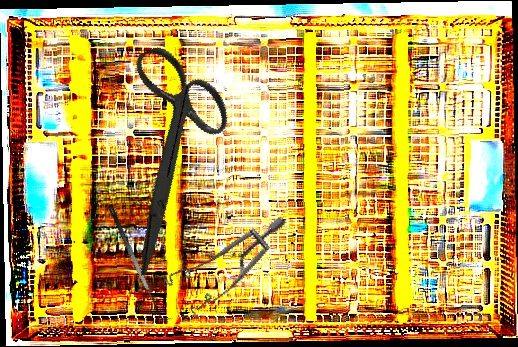Iris Scissors: (62, 31, 274, 277)
Spatula Surgical: (106, 199, 173, 326)
Speculum: (154, 182, 288, 337)
